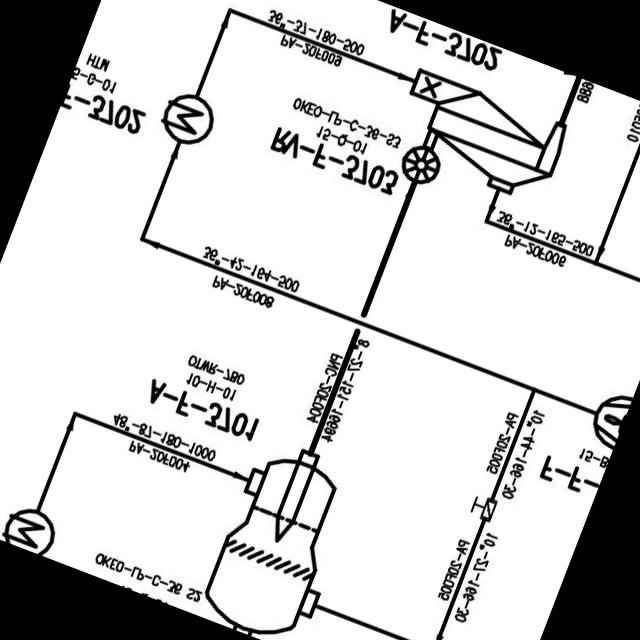A1: (187, 422, 368, 640)
A2: (382, 56, 578, 211)
HE: (152, 85, 220, 154), (0, 498, 61, 557)
R: (394, 140, 446, 192)
